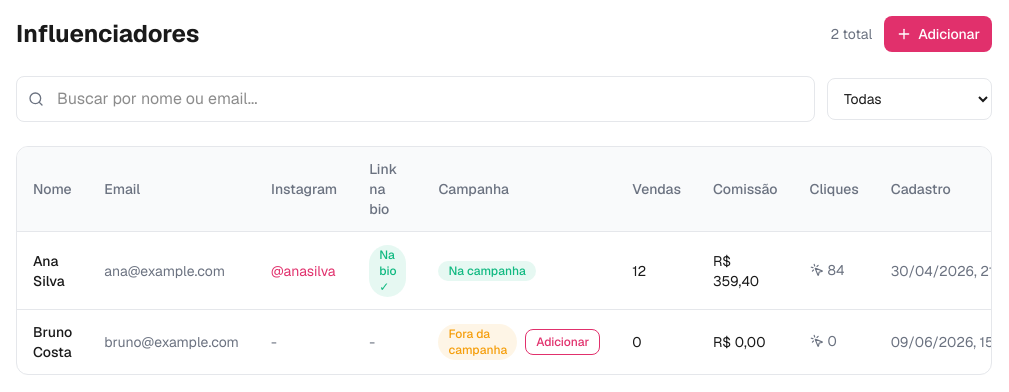
it: AdminInfluencers › filters the list by campaign membership
Select "Na campanha" in the dropdown named "Filtrar por campanha": (910, 99) x1=827 y1=78 x2=992 y2=120
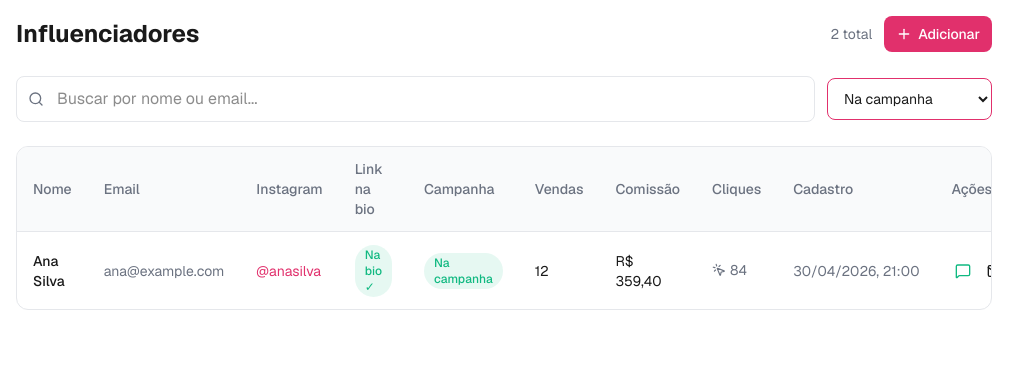
Expected: the text "Ana Silva" is shown, x1=17 y1=232 x2=88 y2=309
Expected: the text "Bruno Costa" is gone
Select "Fora da campanha" in the dropdown named "Filtrar por campanha": (910, 99) x1=827 y1=78 x2=992 y2=120
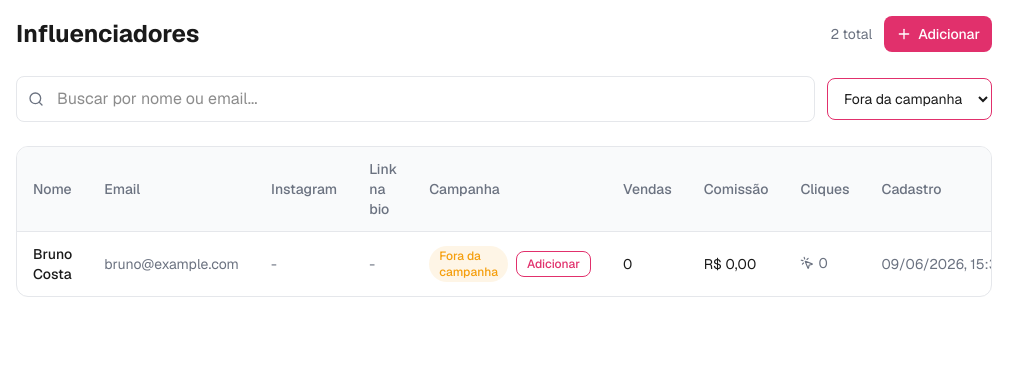
Expected: the text "Ana Silva" is gone
Expected: the text "Bruno Costa" is shown, x1=17 y1=232 x2=88 y2=296
Select "Todas" in the dropdown named "Filtrar por campanha": (910, 99) x1=827 y1=78 x2=992 y2=120
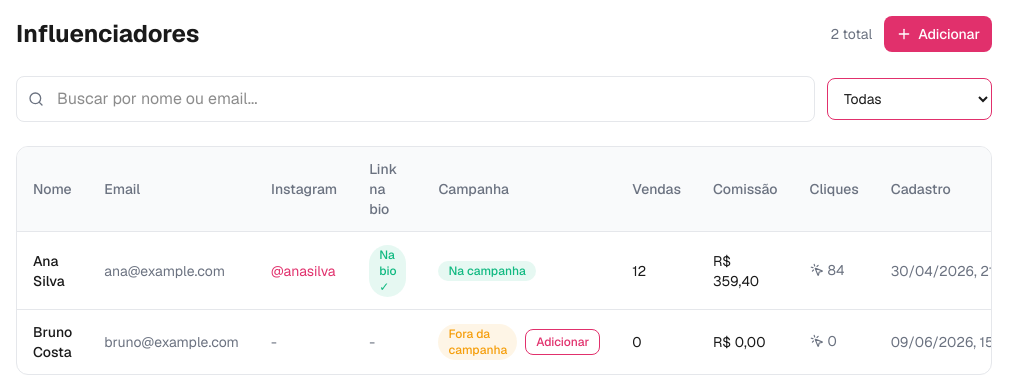
Expected: the text "Bruno Costa" is shown, x1=17 y1=310 x2=88 y2=374
Expected: the text "Ana Silva" is shown, x1=17 y1=232 x2=88 y2=310
